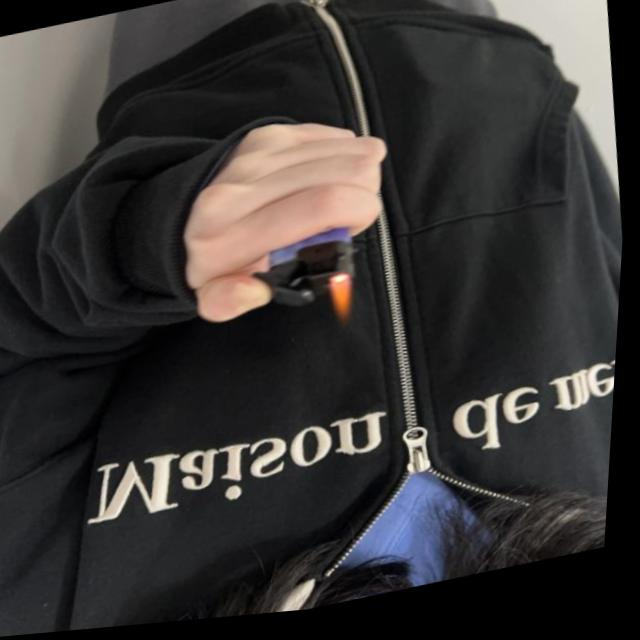Fire: (329, 278, 361, 332)
